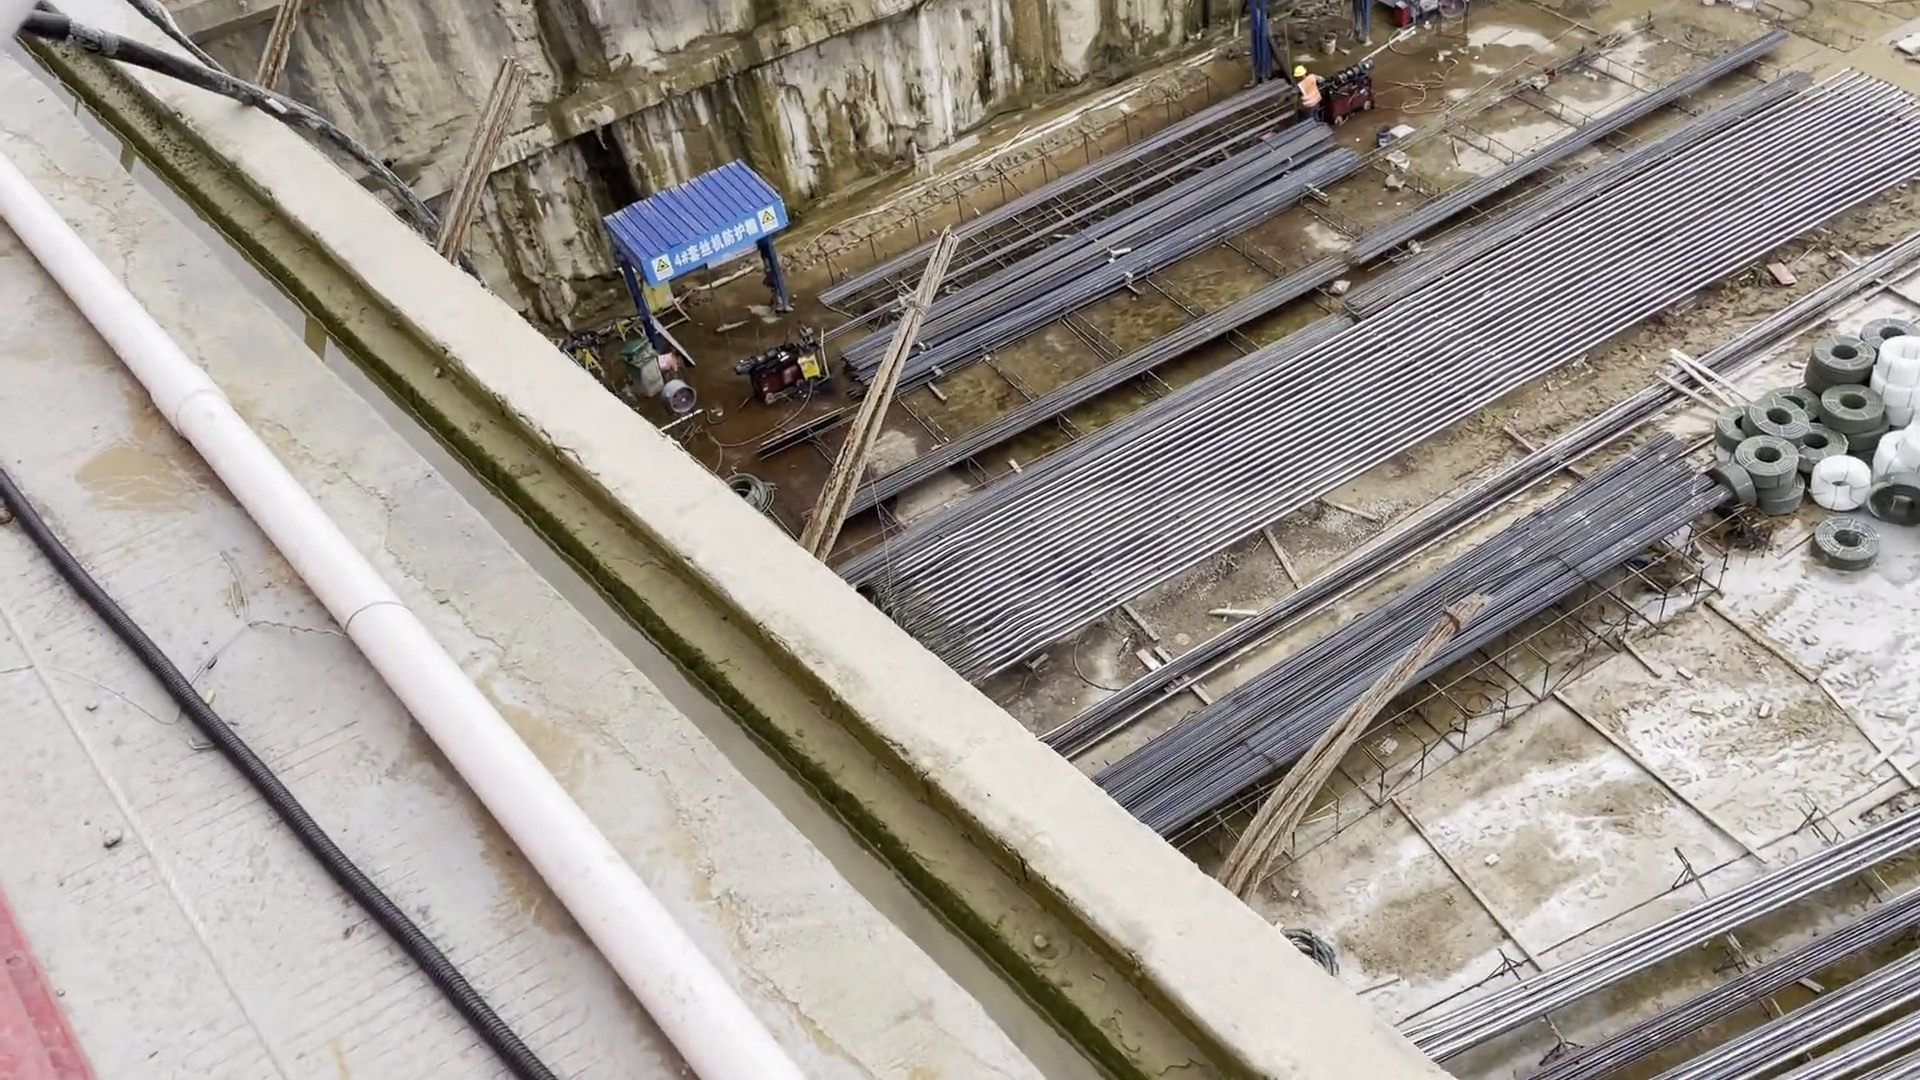helmet: (1292, 66, 1306, 78)
person: (1291, 67, 1329, 116)
rebar: (1109, 429, 1726, 872), (804, 75, 1362, 387), (1414, 801, 1920, 1077)
slogan: (651, 201, 780, 285)
vest: (1297, 75, 1321, 106)
